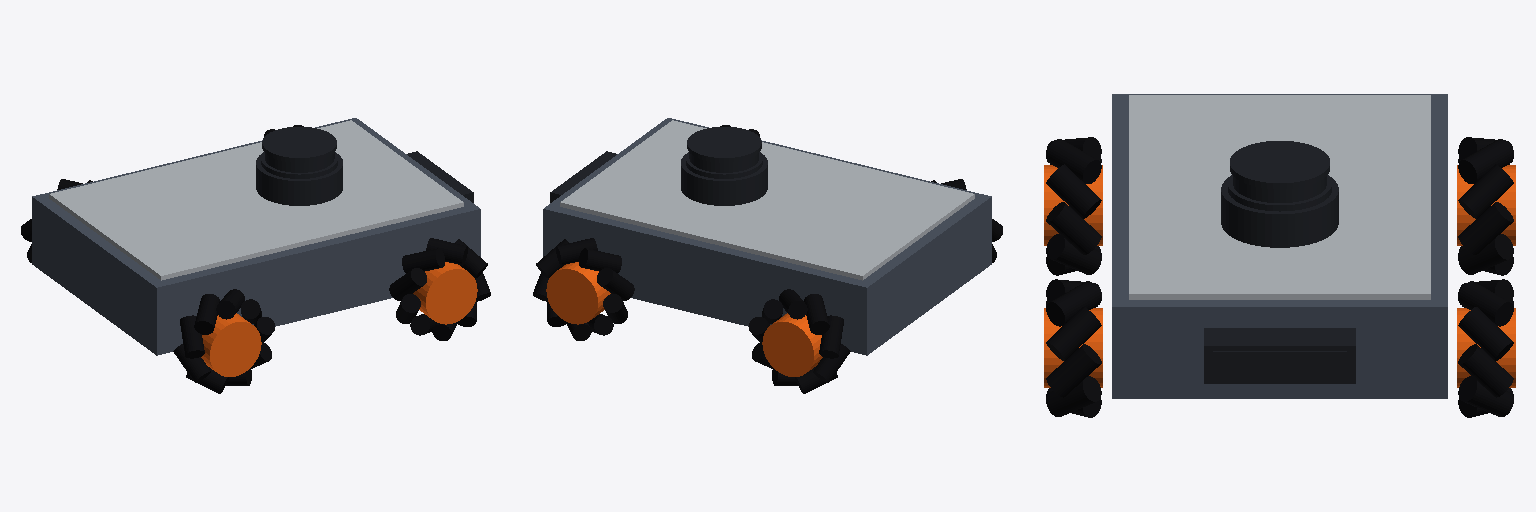
robot.urdf — studio_mecanum:
<?xml version="1.0" ?>
<!-- studio_mecanum: an illustrative four-wheel mecanum base with a 2D LiDAR,
     an IMU and a depth camera, written for Robot Studio's examples. Not
     modelled on any commercial robot; dimensions and masses are plausible
     round numbers, not measurements.

     Arguments (xacro name:=value):
       use_lidar   true | false   mount the LiDAR on the top plate
       use_camera  true | false   mount the depth camera on the front
       wheel_radius               outer radius of the mecanum wheels in metres -->
<robot name="studio_mecanum">
  <material name="chassis_grey">
    <color rgba="0.32 0.35 0.40 1"/>
  </material>
  <material name="plate_silver">
    <color rgba="0.72 0.74 0.76 1"/>
  </material>
  <material name="hub_orange">
    <color rgba="0.92 0.42 0.12 1"/>
  </material>
  <material name="roller_black">
    <color rgba="0.08 0.08 0.09 1"/>
  </material>
  <material name="sensor_dark">
    <color rgba="0.15 0.16 0.18 1"/>
  </material>
  <material name="board_green">
    <color rgba="0.10 0.45 0.25 1"/>
  </material>
  <!-- REP 105: base_footprint on the ground, base_link at the wheel axles. -->
  <link name="base_footprint"/>
  <joint name="base_joint" type="fixed">
    <parent link="base_footprint"/>
    <child link="base_link"/>
    <origin xyz="0 0 0.04"/>
  </joint>
  <link name="base_link">
    <visual name="chassis">
      <origin xyz="0 0 0.019999999999999997"/>
      <geometry>
        <box size="0.3 0.2 0.06"/>
      </geometry>
      <material name="chassis_grey"/>
    </visual>
    <visual name="top_plate">
      <origin xyz="0 0 0.052000000000000005"/>
      <geometry>
        <box size="0.27999999999999997 0.18000000000000002 0.004"/>
      </geometry>
      <material name="plate_silver"/>
    </visual>
    <collision>
      <origin xyz="0 0 0.019999999999999997"/>
      <geometry>
        <box size="0.3 0.2 0.06"/>
      </geometry>
    </collision>
    <inertial>
      <origin xyz="0 0 0.019999999999999997"/>
      <mass value="2.2"/>
      <inertia ixx="0.007993333333333335" ixy="0" ixz="0" iyy="0.01716" iyz="0" izz="0.023833333333333335"/>
    </inertial>
  </link>
  <link name="front_left_wheel_link">
    <visual name="hub">
      <origin rpy="1.5707963267948966 0 0"/>
      <geometry>
        <cylinder length="0.035" radius="0.024"/>
      </geometry>
      <material name="hub_orange"/>
    </visual>
    <visual name="roller_0">
      <origin rpy="0.7853981633974483 -0.0 0" xyz="0.032 0 0.0"/>
      <geometry>
        <cylinder length="0.030717794835100204" radius="0.008"/>
      </geometry>
      <material name="roller_black"/>
    </visual>
    <visual name="roller_1">
      <origin rpy="0.7853981633974483 -0.6981317007977318 0" xyz="0.024513422179807298 0 0.020569203509969256"/>
      <geometry>
        <cylinder length="0.030717794835100204" radius="0.008"/>
      </geometry>
      <material name="roller_black"/>
    </visual>
    <visual name="roller_2">
      <origin rpy="0.7853981633974483 -1.3962634015954636 0" xyz="0.005556741685341773 0 0.031513848096390656"/>
      <geometry>
        <cylinder length="0.030717794835100204" radius="0.008"/>
      </geometry>
      <material name="roller_black"/>
    </visual>
    <visual name="roller_3">
      <origin rpy="0.7853981633974483 -2.0943951023931953 0" xyz="-0.015999999999999993 0 0.027712812921102038"/>
      <geometry>
        <cylinder length="0.030717794835100204" radius="0.008"/>
      </geometry>
      <material name="roller_black"/>
    </visual>
    <visual name="roller_4">
      <origin rpy="0.7853981633974483 -2.792526803190927 0" xyz="-0.030070163865149067 0 0.010944644586421404"/>
      <geometry>
        <cylinder length="0.030717794835100204" radius="0.008"/>
      </geometry>
      <material name="roller_black"/>
    </visual>
    <visual name="roller_5">
      <origin rpy="0.7853981633974483 -3.490658503988659 0" xyz="-0.03007016386514907 0 -0.010944644586421397"/>
      <geometry>
        <cylinder length="0.030717794835100204" radius="0.008"/>
      </geometry>
      <material name="roller_black"/>
    </visual>
    <visual name="roller_6">
      <origin rpy="0.7853981633974483 -4.1887902047863905 0" xyz="-0.016000000000000014 0 -0.027712812921102028"/>
      <geometry>
        <cylinder length="0.030717794835100204" radius="0.008"/>
      </geometry>
      <material name="roller_black"/>
    </visual>
    <visual name="roller_7">
      <origin rpy="0.7853981633974483 -4.886921905584122 0" xyz="0.0055567416853417595 0 -0.03151384809639066"/>
      <geometry>
        <cylinder length="0.030717794835100204" radius="0.008"/>
      </geometry>
      <material name="roller_black"/>
    </visual>
    <visual name="roller_8">
      <origin rpy="0.7853981633974483 -5.585053606381854 0" xyz="0.02451342217980729 0 -0.020569203509969266"/>
      <geometry>
        <cylinder length="0.030717794835100204" radius="0.008"/>
      </geometry>
      <material name="roller_black"/>
    </visual>
    <collision>
      <origin rpy="1.5707963267948966 0 0"/>
      <geometry>
        <cylinder length="0.035" radius="0.04"/>
      </geometry>
    </collision>
    <inertial>
      <origin rpy="1.5707963267948966 0 0"/>
      <mass value="0.15"/>
      <inertia ixx="7.53125e-05" ixy="0" ixz="0" iyy="7.53125e-05" iyz="0" izz="0.00012"/>
    </inertial>
  </link>
  <joint name="front_left_wheel_joint" type="continuous">
    <parent link="base_link"/>
    <child link="front_left_wheel_link"/>
    <origin xyz="0.1 0.12250000000000001 0"/>
    <axis xyz="0 1 0"/>
    <dynamics damping="0.01" friction="0.0"/>
  </joint>
  <link name="front_right_wheel_link">
    <visual name="hub">
      <origin rpy="1.5707963267948966 0 0"/>
      <geometry>
        <cylinder length="0.035" radius="0.024"/>
      </geometry>
      <material name="hub_orange"/>
    </visual>
    <visual name="roller_0">
      <origin rpy="-0.7853981633974483 -0.0 0" xyz="0.032 0 0.0"/>
      <geometry>
        <cylinder length="0.030717794835100204" radius="0.008"/>
      </geometry>
      <material name="roller_black"/>
    </visual>
    <visual name="roller_1">
      <origin rpy="-0.7853981633974483 -0.6981317007977318 0" xyz="0.024513422179807298 0 0.020569203509969256"/>
      <geometry>
        <cylinder length="0.030717794835100204" radius="0.008"/>
      </geometry>
      <material name="roller_black"/>
    </visual>
    <visual name="roller_2">
      <origin rpy="-0.7853981633974483 -1.3962634015954636 0" xyz="0.005556741685341773 0 0.031513848096390656"/>
      <geometry>
        <cylinder length="0.030717794835100204" radius="0.008"/>
      </geometry>
      <material name="roller_black"/>
    </visual>
    <visual name="roller_3">
      <origin rpy="-0.7853981633974483 -2.0943951023931953 0" xyz="-0.015999999999999993 0 0.027712812921102038"/>
      <geometry>
        <cylinder length="0.030717794835100204" radius="0.008"/>
      </geometry>
      <material name="roller_black"/>
    </visual>
    <visual name="roller_4">
      <origin rpy="-0.7853981633974483 -2.792526803190927 0" xyz="-0.030070163865149067 0 0.010944644586421404"/>
      <geometry>
        <cylinder length="0.030717794835100204" radius="0.008"/>
      </geometry>
      <material name="roller_black"/>
    </visual>
    <visual name="roller_5">
      <origin rpy="-0.7853981633974483 -3.490658503988659 0" xyz="-0.03007016386514907 0 -0.010944644586421397"/>
      <geometry>
        <cylinder length="0.030717794835100204" radius="0.008"/>
      </geometry>
      <material name="roller_black"/>
    </visual>
    <visual name="roller_6">
      <origin rpy="-0.7853981633974483 -4.1887902047863905 0" xyz="-0.016000000000000014 0 -0.027712812921102028"/>
      <geometry>
        <cylinder length="0.030717794835100204" radius="0.008"/>
      </geometry>
      <material name="roller_black"/>
    </visual>
    <visual name="roller_7">
      <origin rpy="-0.7853981633974483 -4.886921905584122 0" xyz="0.0055567416853417595 0 -0.03151384809639066"/>
      <geometry>
        <cylinder length="0.030717794835100204" radius="0.008"/>
      </geometry>
      <material name="roller_black"/>
    </visual>
    <visual name="roller_8">
      <origin rpy="-0.7853981633974483 -5.585053606381854 0" xyz="0.02451342217980729 0 -0.020569203509969266"/>
      <geometry>
        <cylinder length="0.030717794835100204" radius="0.008"/>
      </geometry>
      <material name="roller_black"/>
    </visual>
    <collision>
      <origin rpy="1.5707963267948966 0 0"/>
      <geometry>
        <cylinder length="0.035" radius="0.04"/>
      </geometry>
    </collision>
    <inertial>
      <origin rpy="1.5707963267948966 0 0"/>
      <mass value="0.15"/>
      <inertia ixx="7.53125e-05" ixy="0" ixz="0" iyy="7.53125e-05" iyz="0" izz="0.00012"/>
    </inertial>
  </link>
  <joint name="front_right_wheel_joint" type="continuous">
    <parent link="base_link"/>
    <child link="front_right_wheel_link"/>
    <origin xyz="0.1 -0.12250000000000001 0"/>
    <axis xyz="0 1 0"/>
    <dynamics damping="0.01" friction="0.0"/>
  </joint>
  <link name="rear_left_wheel_link">
    <visual name="hub">
      <origin rpy="1.5707963267948966 0 0"/>
      <geometry>
        <cylinder length="0.035" radius="0.024"/>
      </geometry>
      <material name="hub_orange"/>
    </visual>
    <visual name="roller_0">
      <origin rpy="-0.7853981633974483 -0.0 0" xyz="0.032 0 0.0"/>
      <geometry>
        <cylinder length="0.030717794835100204" radius="0.008"/>
      </geometry>
      <material name="roller_black"/>
    </visual>
    <visual name="roller_1">
      <origin rpy="-0.7853981633974483 -0.6981317007977318 0" xyz="0.024513422179807298 0 0.020569203509969256"/>
      <geometry>
        <cylinder length="0.030717794835100204" radius="0.008"/>
      </geometry>
      <material name="roller_black"/>
    </visual>
    <visual name="roller_2">
      <origin rpy="-0.7853981633974483 -1.3962634015954636 0" xyz="0.005556741685341773 0 0.031513848096390656"/>
      <geometry>
        <cylinder length="0.030717794835100204" radius="0.008"/>
      </geometry>
      <material name="roller_black"/>
    </visual>
    <visual name="roller_3">
      <origin rpy="-0.7853981633974483 -2.0943951023931953 0" xyz="-0.015999999999999993 0 0.027712812921102038"/>
      <geometry>
        <cylinder length="0.030717794835100204" radius="0.008"/>
      </geometry>
      <material name="roller_black"/>
    </visual>
    <visual name="roller_4">
      <origin rpy="-0.7853981633974483 -2.792526803190927 0" xyz="-0.030070163865149067 0 0.010944644586421404"/>
      <geometry>
        <cylinder length="0.030717794835100204" radius="0.008"/>
      </geometry>
      <material name="roller_black"/>
    </visual>
    <visual name="roller_5">
      <origin rpy="-0.7853981633974483 -3.490658503988659 0" xyz="-0.03007016386514907 0 -0.010944644586421397"/>
      <geometry>
        <cylinder length="0.030717794835100204" radius="0.008"/>
      </geometry>
      <material name="roller_black"/>
    </visual>
    <visual name="roller_6">
      <origin rpy="-0.7853981633974483 -4.1887902047863905 0" xyz="-0.016000000000000014 0 -0.027712812921102028"/>
      <geometry>
        <cylinder length="0.030717794835100204" radius="0.008"/>
      </geometry>
      <material name="roller_black"/>
    </visual>
    <visual name="roller_7">
      <origin rpy="-0.7853981633974483 -4.886921905584122 0" xyz="0.0055567416853417595 0 -0.03151384809639066"/>
      <geometry>
        <cylinder length="0.030717794835100204" radius="0.008"/>
      </geometry>
      <material name="roller_black"/>
    </visual>
    <visual name="roller_8">
      <origin rpy="-0.7853981633974483 -5.585053606381854 0" xyz="0.02451342217980729 0 -0.020569203509969266"/>
      <geometry>
        <cylinder length="0.030717794835100204" radius="0.008"/>
      </geometry>
      <material name="roller_black"/>
    </visual>
    <collision>
      <origin rpy="1.5707963267948966 0 0"/>
      <geometry>
        <cylinder length="0.035" radius="0.04"/>
      </geometry>
    </collision>
    <inertial>
      <origin rpy="1.5707963267948966 0 0"/>
      <mass value="0.15"/>
      <inertia ixx="7.53125e-05" ixy="0" ixz="0" iyy="7.53125e-05" iyz="0" izz="0.00012"/>
    </inertial>
  </link>
  <joint name="rear_left_wheel_joint" type="continuous">
    <parent link="base_link"/>
    <child link="rear_left_wheel_link"/>
    <origin xyz="-0.1 0.12250000000000001 0"/>
    <axis xyz="0 1 0"/>
    <dynamics damping="0.01" friction="0.0"/>
  </joint>
  <link name="rear_right_wheel_link">
    <visual name="hub">
      <origin rpy="1.5707963267948966 0 0"/>
      <geometry>
        <cylinder length="0.035" radius="0.024"/>
      </geometry>
      <material name="hub_orange"/>
    </visual>
    <visual name="roller_0">
      <origin rpy="0.7853981633974483 -0.0 0" xyz="0.032 0 0.0"/>
      <geometry>
        <cylinder length="0.030717794835100204" radius="0.008"/>
      </geometry>
      <material name="roller_black"/>
    </visual>
    <visual name="roller_1">
      <origin rpy="0.7853981633974483 -0.6981317007977318 0" xyz="0.024513422179807298 0 0.020569203509969256"/>
      <geometry>
        <cylinder length="0.030717794835100204" radius="0.008"/>
      </geometry>
      <material name="roller_black"/>
    </visual>
    <visual name="roller_2">
      <origin rpy="0.7853981633974483 -1.3962634015954636 0" xyz="0.005556741685341773 0 0.031513848096390656"/>
      <geometry>
        <cylinder length="0.030717794835100204" radius="0.008"/>
      </geometry>
      <material name="roller_black"/>
    </visual>
    <visual name="roller_3">
      <origin rpy="0.7853981633974483 -2.0943951023931953 0" xyz="-0.015999999999999993 0 0.027712812921102038"/>
      <geometry>
        <cylinder length="0.030717794835100204" radius="0.008"/>
      </geometry>
      <material name="roller_black"/>
    </visual>
    <visual name="roller_4">
      <origin rpy="0.7853981633974483 -2.792526803190927 0" xyz="-0.030070163865149067 0 0.010944644586421404"/>
      <geometry>
        <cylinder length="0.030717794835100204" radius="0.008"/>
      </geometry>
      <material name="roller_black"/>
    </visual>
    <visual name="roller_5">
      <origin rpy="0.7853981633974483 -3.490658503988659 0" xyz="-0.03007016386514907 0 -0.010944644586421397"/>
      <geometry>
        <cylinder length="0.030717794835100204" radius="0.008"/>
      </geometry>
      <material name="roller_black"/>
    </visual>
    <visual name="roller_6">
      <origin rpy="0.7853981633974483 -4.1887902047863905 0" xyz="-0.016000000000000014 0 -0.027712812921102028"/>
      <geometry>
        <cylinder length="0.030717794835100204" radius="0.008"/>
      </geometry>
      <material name="roller_black"/>
    </visual>
    <visual name="roller_7">
      <origin rpy="0.7853981633974483 -4.886921905584122 0" xyz="0.0055567416853417595 0 -0.03151384809639066"/>
      <geometry>
        <cylinder length="0.030717794835100204" radius="0.008"/>
      </geometry>
      <material name="roller_black"/>
    </visual>
    <visual name="roller_8">
      <origin rpy="0.7853981633974483 -5.585053606381854 0" xyz="0.02451342217980729 0 -0.020569203509969266"/>
      <geometry>
        <cylinder length="0.030717794835100204" radius="0.008"/>
      </geometry>
      <material name="roller_black"/>
    </visual>
    <collision>
      <origin rpy="1.5707963267948966 0 0"/>
      <geometry>
        <cylinder length="0.035" radius="0.04"/>
      </geometry>
    </collision>
    <inertial>
      <origin rpy="1.5707963267948966 0 0"/>
      <mass value="0.15"/>
      <inertia ixx="7.53125e-05" ixy="0" ixz="0" iyy="7.53125e-05" iyz="0" izz="0.00012"/>
    </inertial>
  </link>
  <joint name="rear_right_wheel_joint" type="continuous">
    <parent link="base_link"/>
    <child link="rear_right_wheel_link"/>
    <origin xyz="-0.1 -0.12250000000000001 0"/>
    <axis xyz="0 1 0"/>
    <dynamics damping="0.01" friction="0.0"/>
  </joint>
  <joint name="imu_joint" type="fixed">
    <parent link="base_link"/>
    <child link="imu_link"/>
    <origin xyz="0 0 0.048"/>
  </joint>
  <link name="imu_link">
    <visual>
      <geometry>
        <box size="0.02 0.02 0.004"/>
      </geometry>
      <material name="board_green"/>
    </visual>
    <collision>
      <geometry>
        <box size="0.02 0.02 0.004"/>
      </geometry>
    </collision>
    <inertial>
      <origin xyz="0 0 0"/>
      <mass value="0.004"/>
      <inertia ixx="1.3866666666666666e-07" ixy="0" ixz="0" iyy="1.3866666666666666e-07" iyz="0" izz="2.6666666666666667e-07"/>
    </inertial>
  </link>
  <joint name="lidar_joint" type="fixed">
    <parent link="base_link"/>
    <child link="lidar_link"/>
    <origin xyz="0.04 0 0.054000000000000006"/>
  </joint>
  <link name="lidar_link">
    <visual>
      <geometry>
        <mesh filename="package://studio_mecanum_description/meshes/lidar.stl"/>
      </geometry>
      <material name="sensor_dark"/>
    </visual>
    <collision>
      <origin xyz="0 0 0.02"/>
      <geometry>
        <cylinder length="0.04" radius="0.035"/>
      </geometry>
    </collision>
    <inertial>
      <origin xyz="0 0 0.02"/>
      <mass value="0.17"/>
      <inertia ixx="7.472916666666668e-05" ixy="0" ixz="0" iyy="7.472916666666668e-05" iyz="0" izz="0.00010412500000000004"/>
    </inertial>
  </link>
  <!-- The scan plane, where the ranges are measured from. -->
  <joint name="laser_joint" type="fixed">
    <parent link="lidar_link"/>
    <child link="laser_frame"/>
    <origin xyz="0 0 0.031"/>
  </joint>
  <link name="laser_frame"/>
  <joint name="camera_joint" type="fixed">
    <parent link="base_link"/>
    <child link="camera_link"/>
    <origin xyz="0.1625 0 0.024000000000000007"/>
  </joint>
  <link name="camera_link">
    <visual>
      <geometry>
        <mesh filename="package://studio_mecanum_description/meshes/camera.obj"/>
      </geometry>
      <material name="sensor_dark"/>
    </visual>
    <collision>
      <geometry>
        <box size="0.025 0.09 0.025"/>
      </geometry>
    </collision>
    <inertial>
      <origin xyz="0 0 0"/>
      <mass value="0.08"/>
      <inertia ixx="5.816666666666667e-05" ixy="0" ixz="0" iyy="8.333333333333335e-06" iyz="0" izz="5.816666666666667e-05"/>
    </inertial>
  </link>
  <joint name="camera_optical_joint" type="fixed">
    <parent link="camera_link"/>
    <child link="camera_optical_frame"/>
    <origin rpy="-1.5707963267948966 0 -1.5707963267948966" xyz="0.015 0 0"/>
  </joint>
  <link name="camera_optical_frame"/>
</robot>

--- What the picture shows (computed from the rendered views, not written in the file) ---
Views: 3 orthographic renders of the robot side by side, from view 1: azimuth 30°, elevation 25°; view 2: azimuth 150°, elevation 25°; view 3: azimuth 270°, elevation 25°.
Model studio_mecanum with 11 links and 10 joints (4 continuous, 6 fixed), rooted at base_footprint, posed every joint at zero.
Visible links, largest first — view 1: base_link, front_right_wheel_link, rear_right_wheel_link, lidar_link, camera_link; view 2: base_link, front_left_wheel_link, rear_left_wheel_link, lidar_link, camera_link; view 3: base_link, lidar_link, camera_link, rear_left_wheel_link, rear_right_wheel_link, front_left_wheel_link, front_right_wheel_link.
Boxes of the visible links, <box> form: base_link: <box>32,118,480,355</box>; front_right_wheel_link: <box>389,238,490,340</box>; rear_right_wheel_link: <box>173,289,274,393</box>; lidar_link: <box>256,127,342,205</box>; camera_link: <box>407,151,473,202</box>; base_link: <box>543,118,991,355</box>; front_left_wheel_link: <box>533,238,634,340</box>; rear_left_wheel_link: <box>749,289,850,393</box>; lidar_link: <box>681,127,767,205</box>; camera_link: <box>550,151,616,202</box>; base_link: <box>1112,94,1447,398</box>; lidar_link: <box>1221,141,1338,247</box>; camera_link: <box>1204,328,1355,383</box>; rear_left_wheel_link: <box>1457,137,1515,275</box>; rear_right_wheel_link: <box>1044,137,1102,275</box>; front_left_wheel_link: <box>1457,279,1515,417</box>; front_right_wheel_link: <box>1044,279,1102,417</box>.
Bounding box of the posed robot: 0.327 × 0.28 × 0.1353 m (x, y, z).
Meshes: 2 distinct files referenced, 2 mesh visuals loaded (1 binary STL, 1 OBJ).
